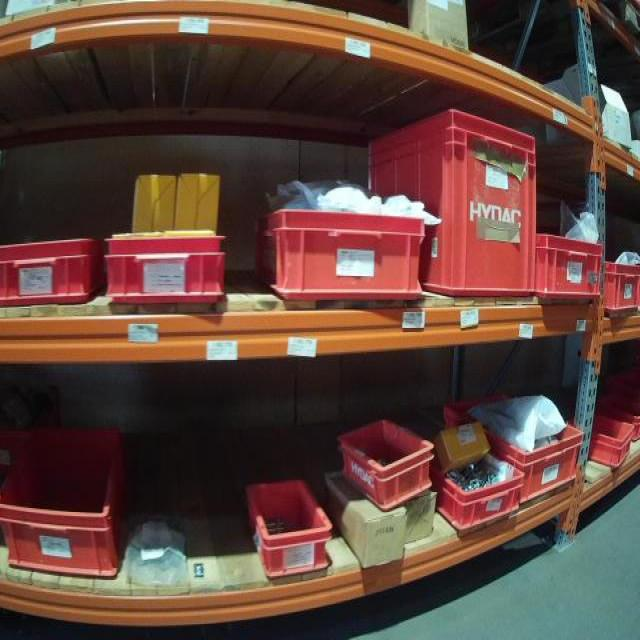small_load_carrier: (364, 102, 539, 303), (3, 415, 136, 579), (438, 381, 591, 507), (247, 204, 430, 308), (336, 411, 441, 516), (244, 477, 335, 583), (98, 231, 225, 302), (436, 445, 533, 535), (2, 228, 105, 305), (538, 226, 604, 303), (562, 408, 636, 467), (601, 253, 639, 321), (596, 397, 638, 440)
